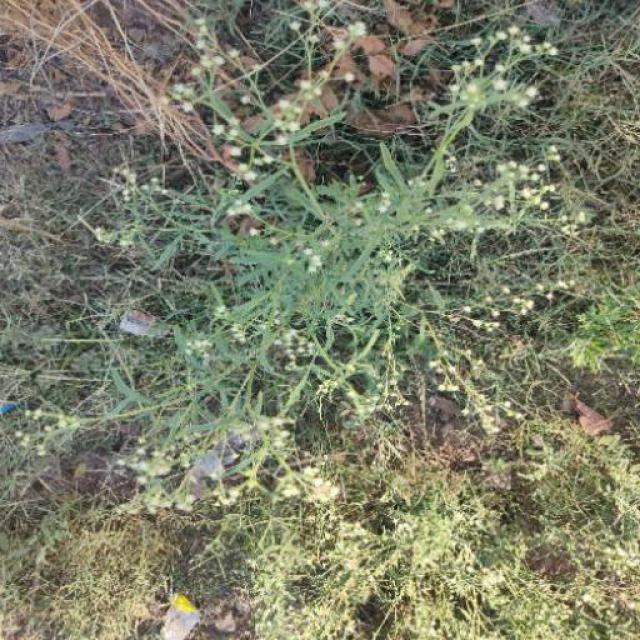weed: (45, 36, 611, 599)
